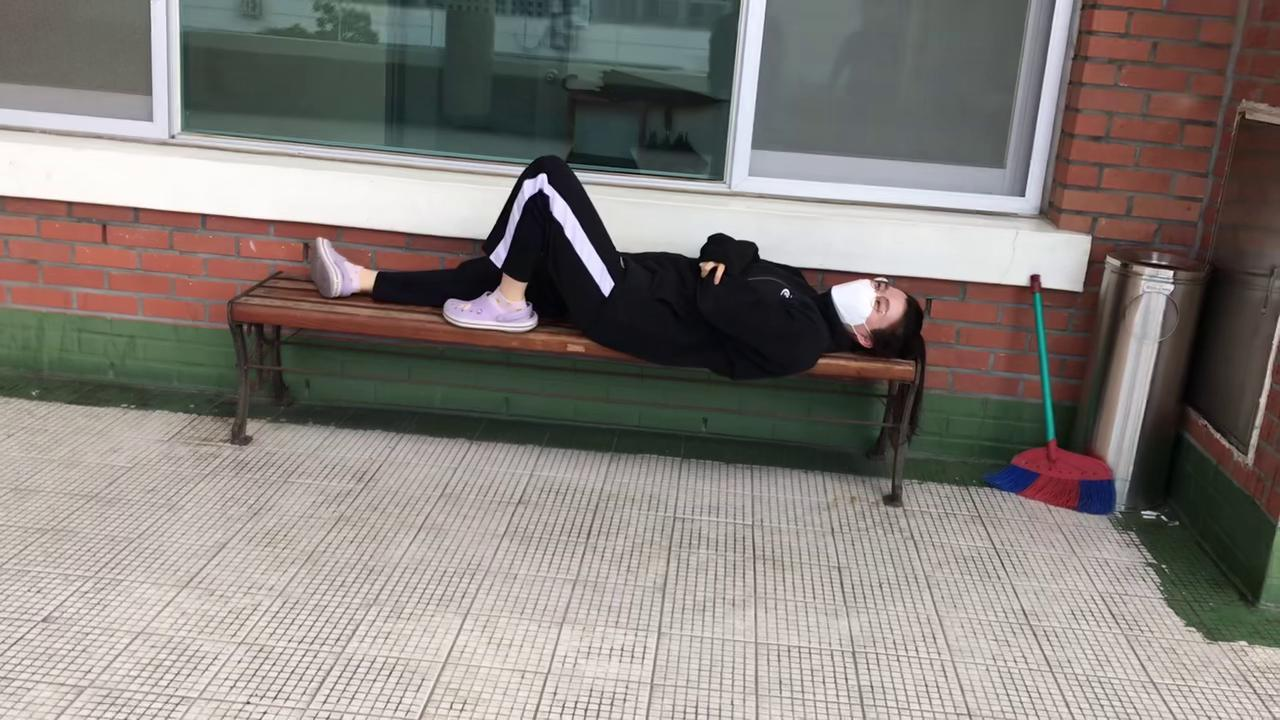sleep: (305, 150, 921, 383)
